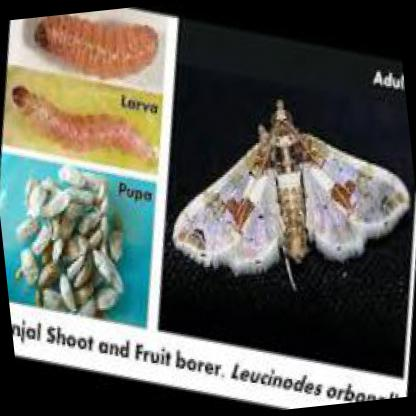leucinodes: (174, 100, 407, 275)
